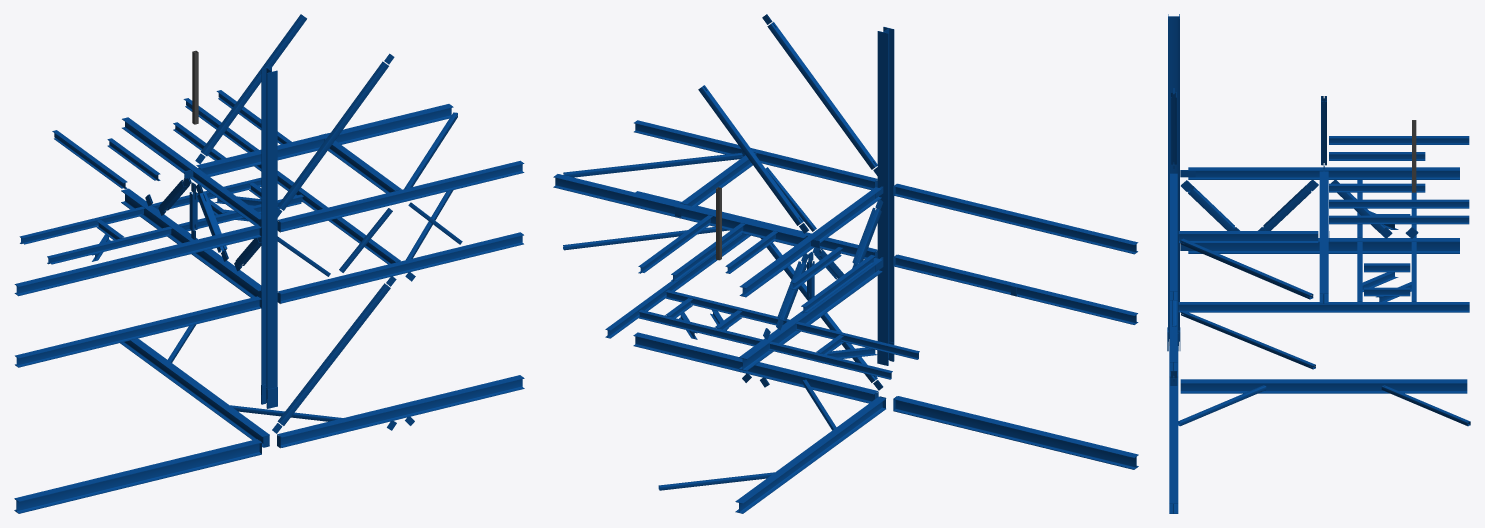
File: GCC-AAV-13220-30.nwd(91).fbx
3 renders of one model, left to right at view 1: azimuth 30°, elevation 25°; view 2: azimuth 150°, elevation 25°; view 3: azimuth 270°, elevation 25°, orthographic.
Parts seen in each view (by area): view 1: Группа фасетов (×25); view 2: Группа фасетов (×26); view 3: Группа фасетов (×27), PANEL 1 of SBFRAMEWORK /13220-ST-001/CS/KM3/K/ROW_14-15/D-E.
Part boxes in pixels (x1,y1,x2,y2): Группа фасетов (×25): [14, 14, 524, 513]; Группа фасетов (×26): [553, 22, 1138, 513]; Группа фасетов (×27): [1168, 14, 1470, 513]; PANEL 1 of SBFRAMEWORK /13220-ST-001/CS/KM3/K/ROW_14-15/D-E: [1412, 120, 1416, 192].
Bounding box in the file's own units: 765 × 559 × 398.
